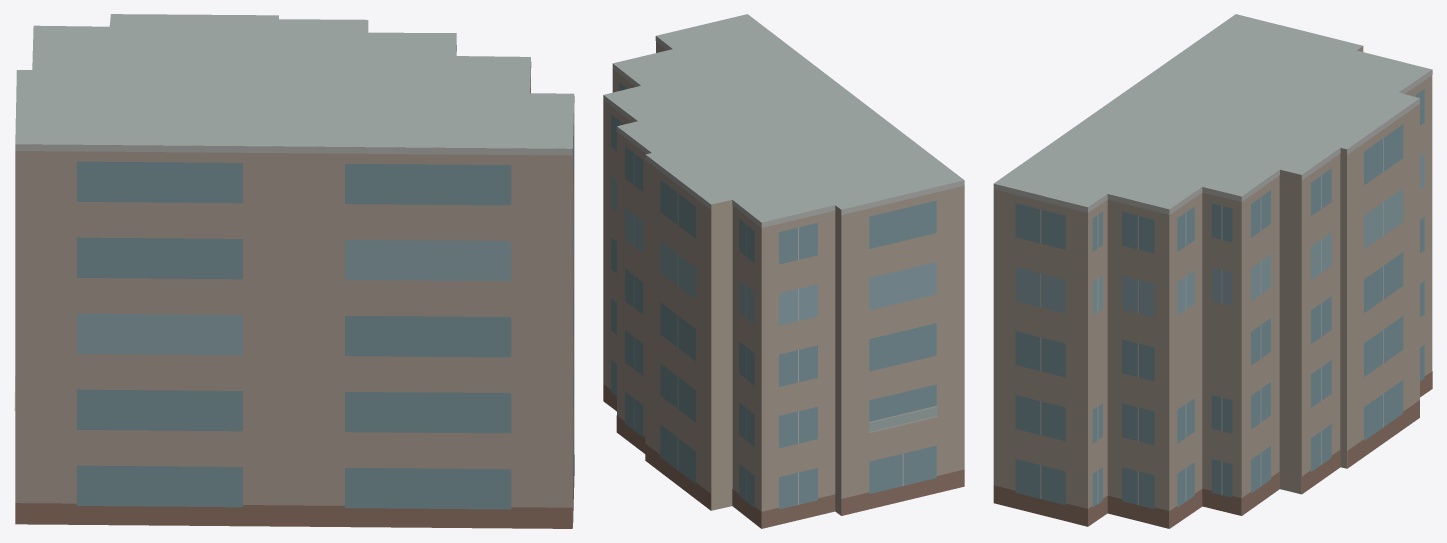
Rendered from survey-upis-32545082.glb.
3 views of the same model, side by side, from view 1: azimuth 30°, elevation 25°; view 2: azimuth 150°, elevation 25°; view 3: azimuth 270°, elevation 25° (orthographic). The views are drawn at different scales.
Visible parts, largest first — view 1: survey-upis-32545082.tmp; view 2: survey-upis-32545082.tmp; view 3: survey-upis-32545082.tmp.
Part boxes in pixels (x1,y1,x2,y2): survey-upis-32545082.tmp: (14, 14, 574, 528); survey-upis-32545082.tmp: (603, 14, 964, 528); survey-upis-32545082.tmp: (993, 14, 1432, 528).
Size of the model in its own units: 18.24 by 13.9 by 17.31.
